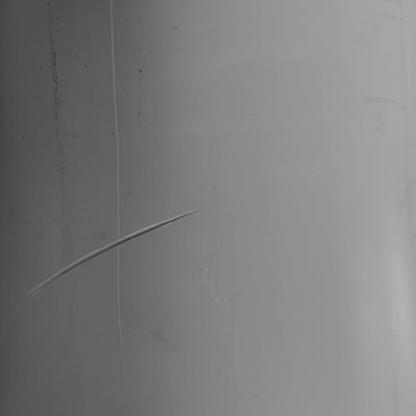sunshang: (28, 206, 197, 294)
